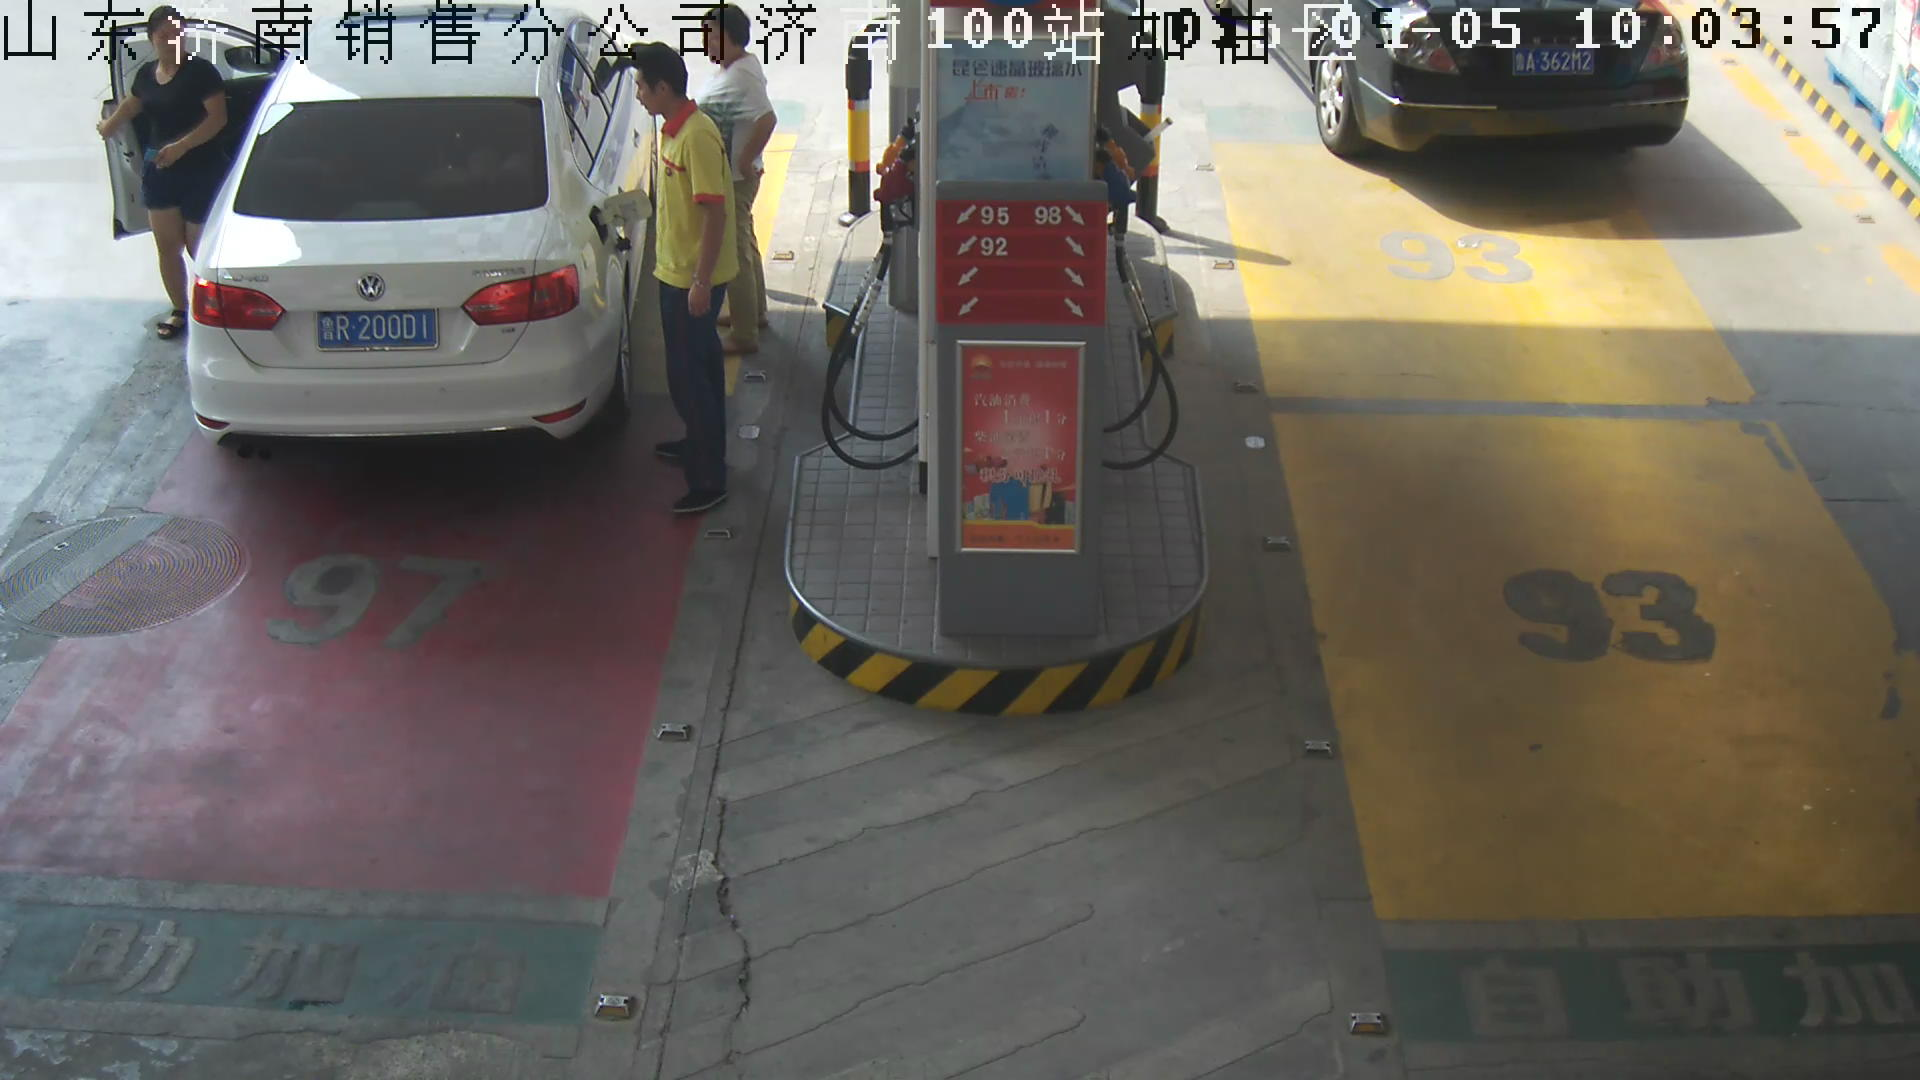blue: (314, 309, 442, 355)
